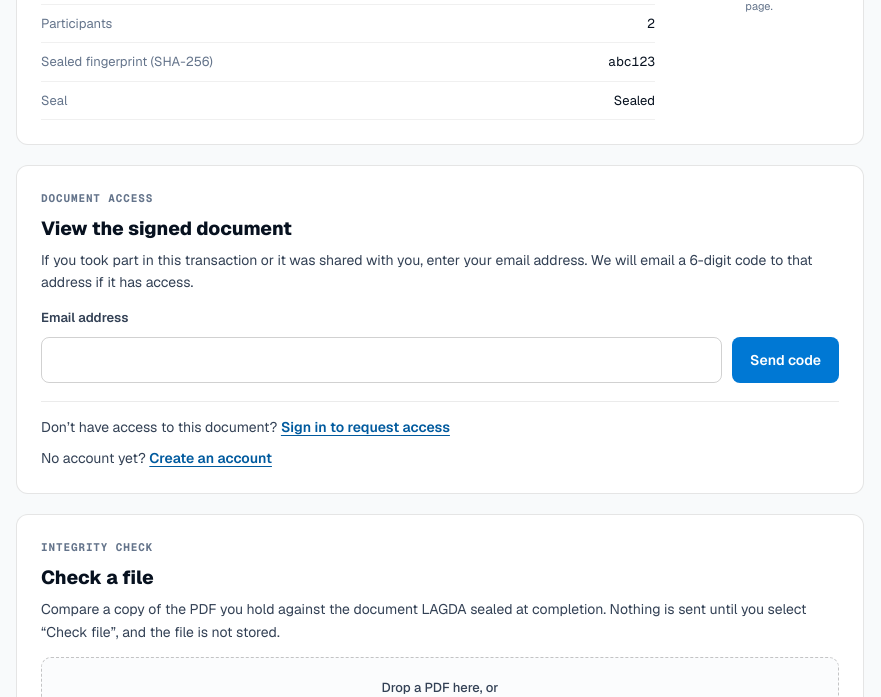
it: /verify/:id access flow › a 429 on code entry shows the rate-limit message
(page scrolled)
Type "maria@example.com" into the field labelled "Email address". click: (382, 360)
box: [41,337,722,383]
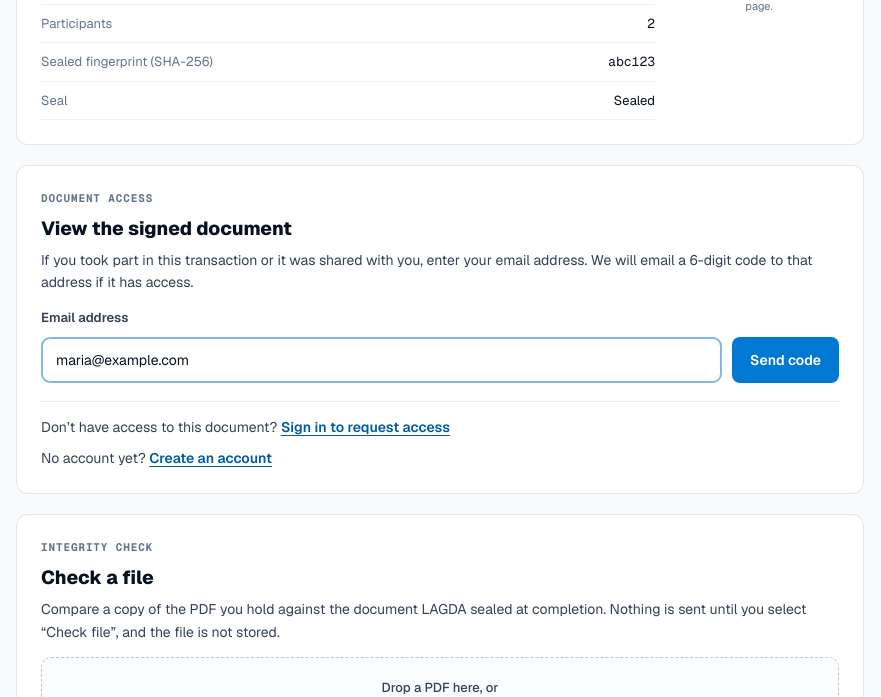
Click the button "Send code". click: (786, 360)
box: [732,337,839,383]
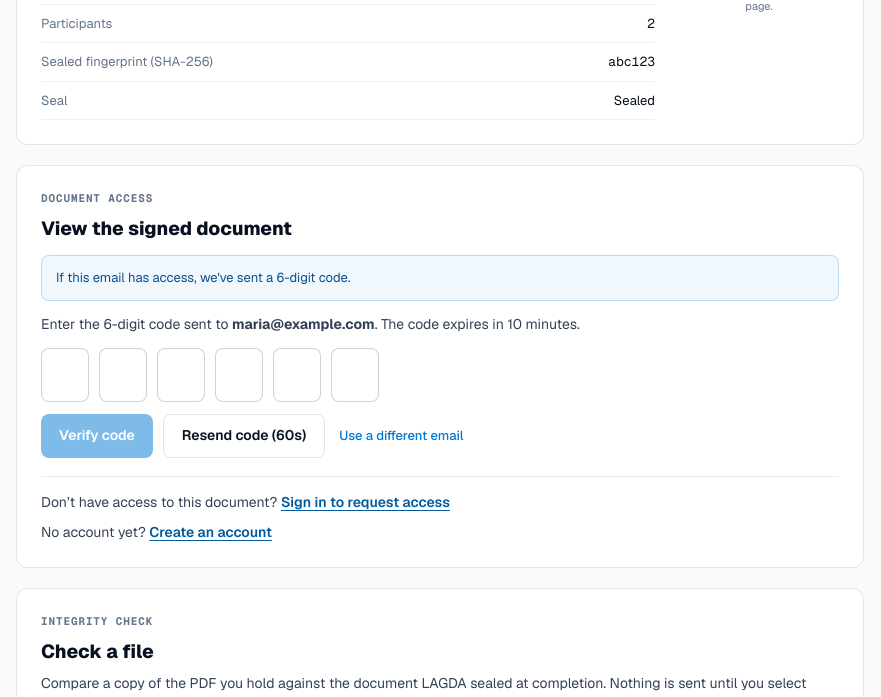
Expected: the text "If this email has access, we've sent a 6-digit code." is shown, [41,255,839,301]
Click the field named "Digit 1 of 6". click: (65, 375)
box: [41,348,89,402]
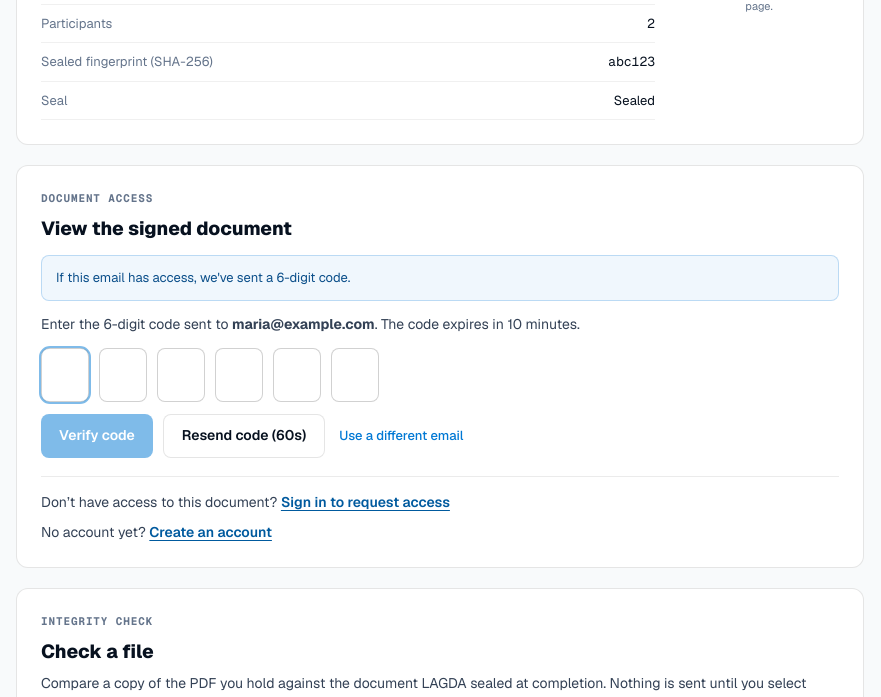
Type keys "123456"
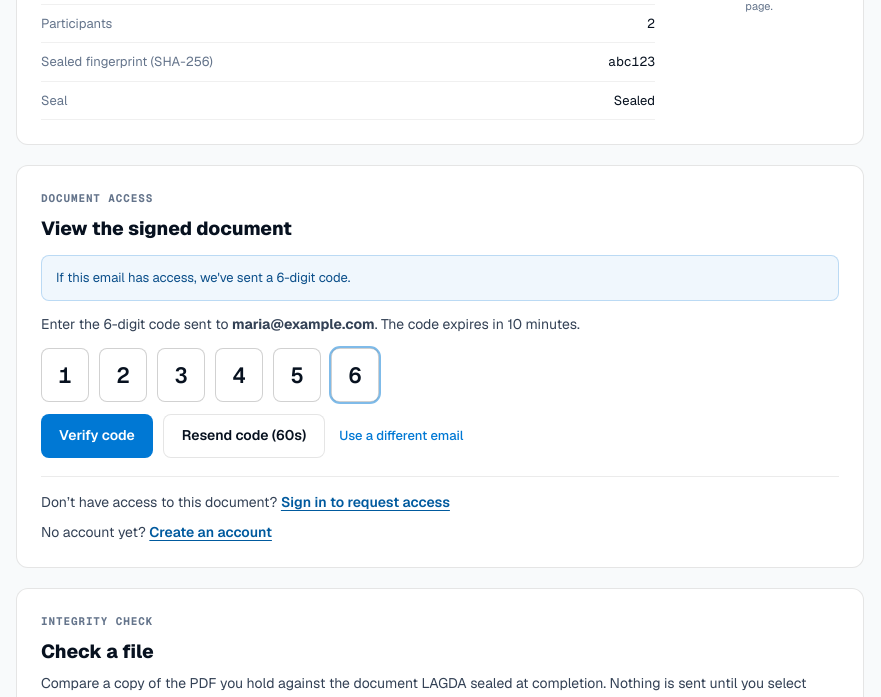
Click the button "Verify code". click: (97, 436)
box: [41,414,153,458]
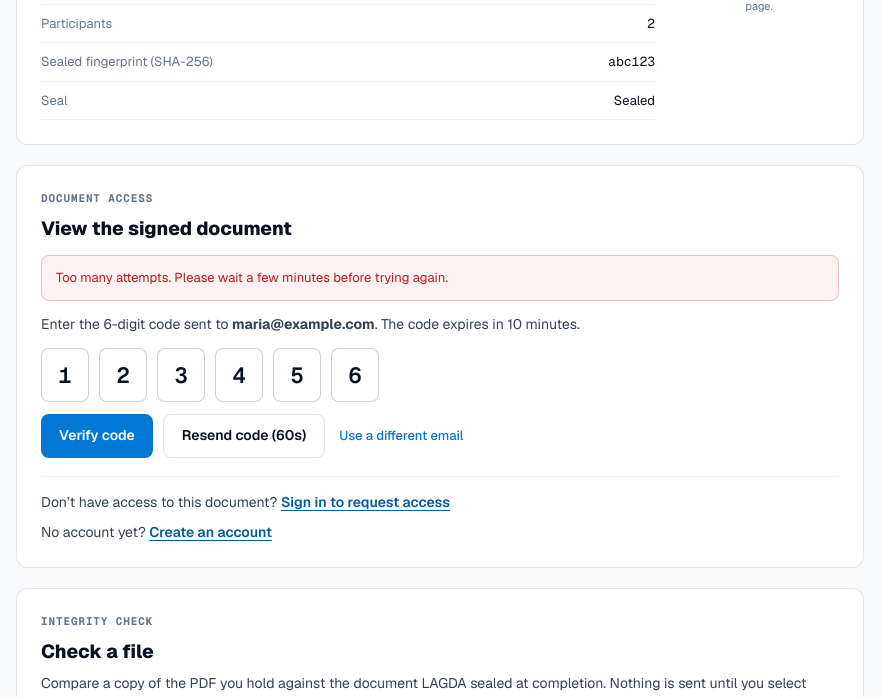
Expected: the text "Too many attempts" is shown, [56,269,448,286]
